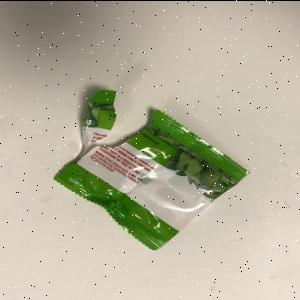Trash: (52, 90, 252, 253)
